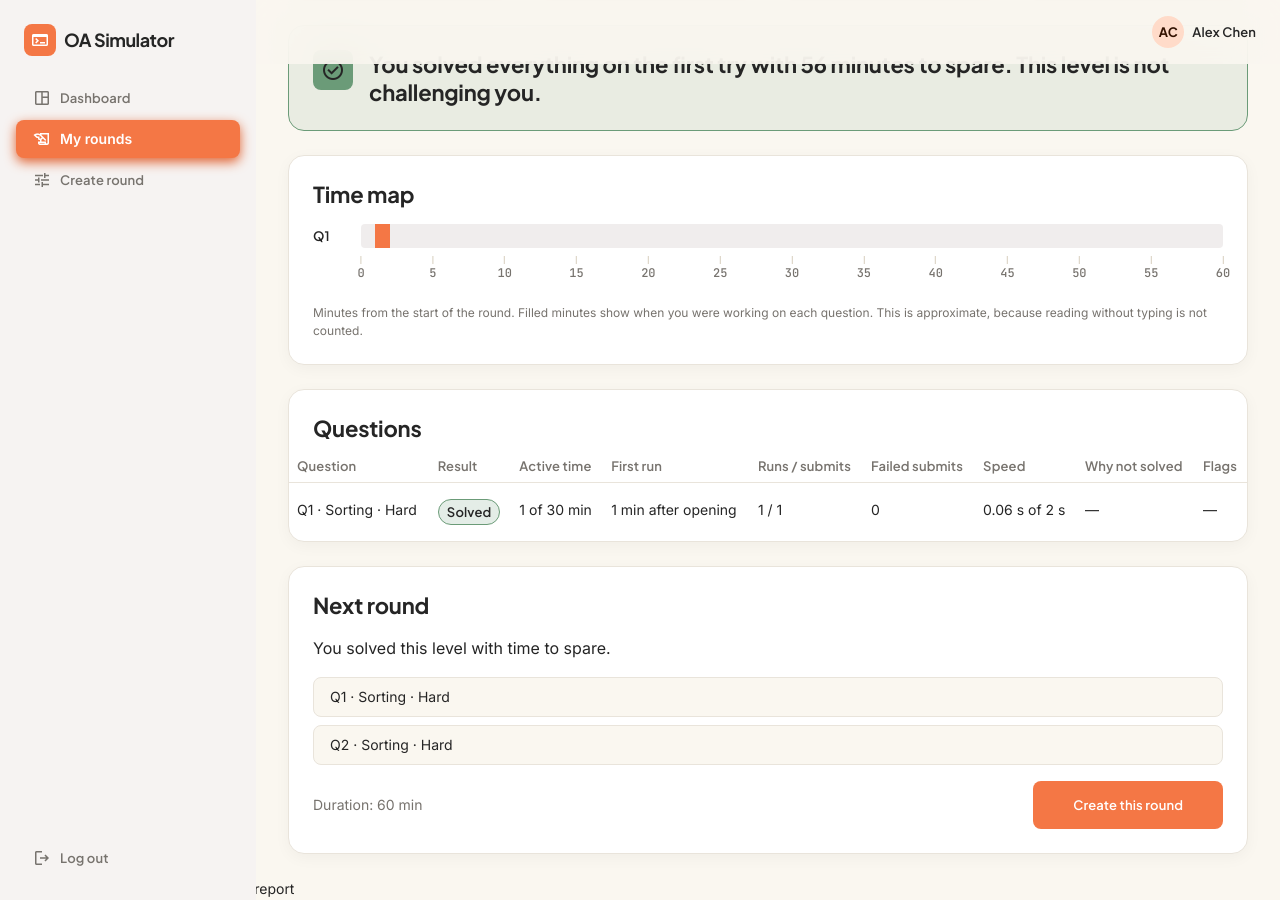
Test case: next round card › 422 NOT_ENOUGH_PROBLEMS: the same short-group message as the round builder, next to the questions it names
The width and height of the screenshot is (1280, 900).
(page scrolled)
Click the button "Create this round".
click(1128, 805)  # box x1=1033 y1=781 x2=1223 y2=829
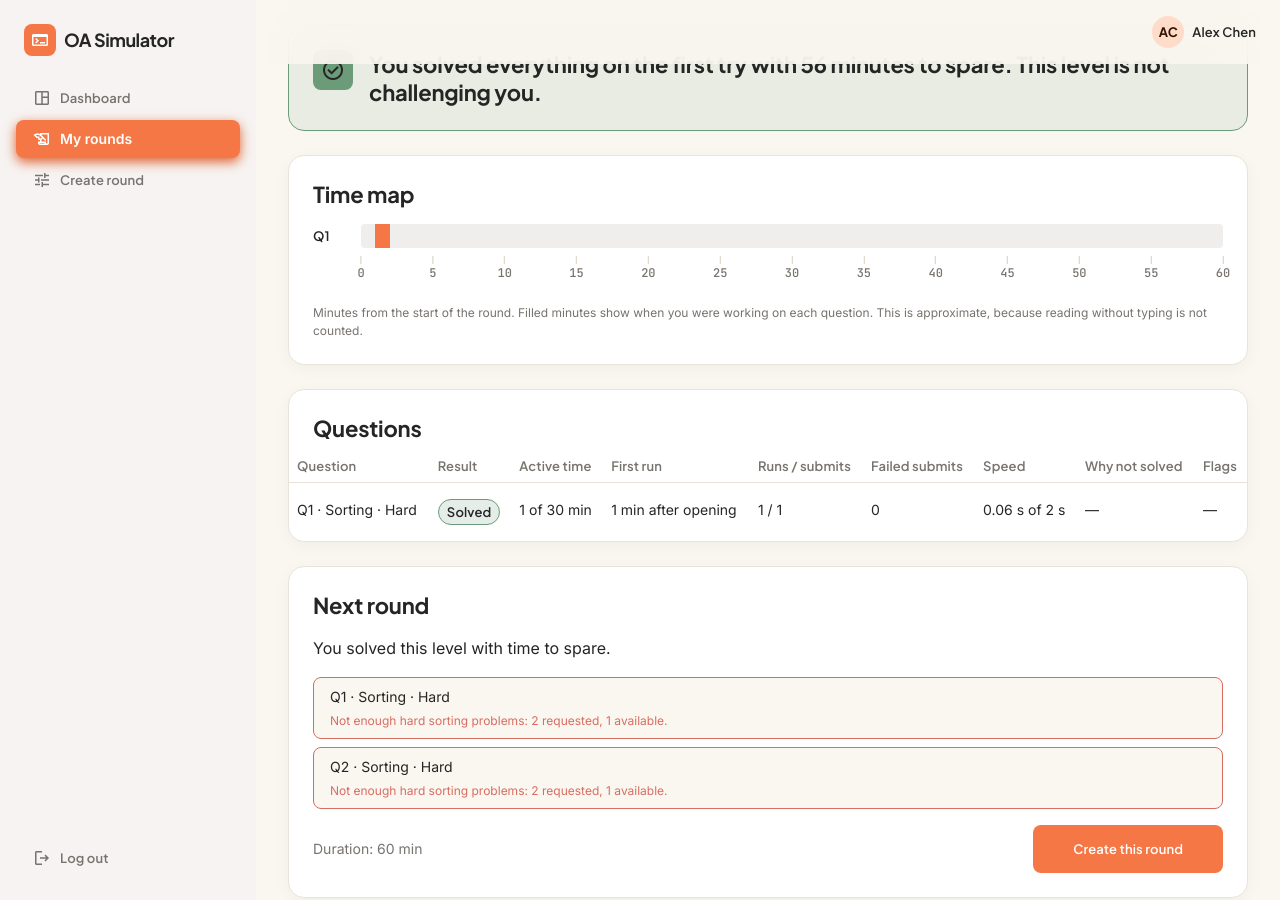
Check: the number of list items with test id "next-round-slot" is 2, box x1=313 y1=677 x2=1223 y2=739; x1=313 y1=747 x2=1223 y2=809
Check: the list item with test id "next-round-slot" shows "Not enough hard sorting problems: 2 requested, 1 available.", box x1=330 y1=713 x2=668 y2=728
